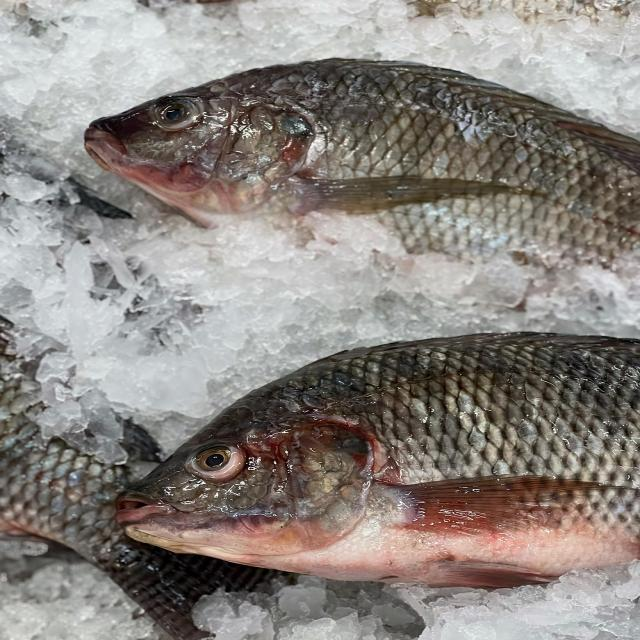Tilapia: (113, 335, 639, 589), (82, 59, 639, 266)
